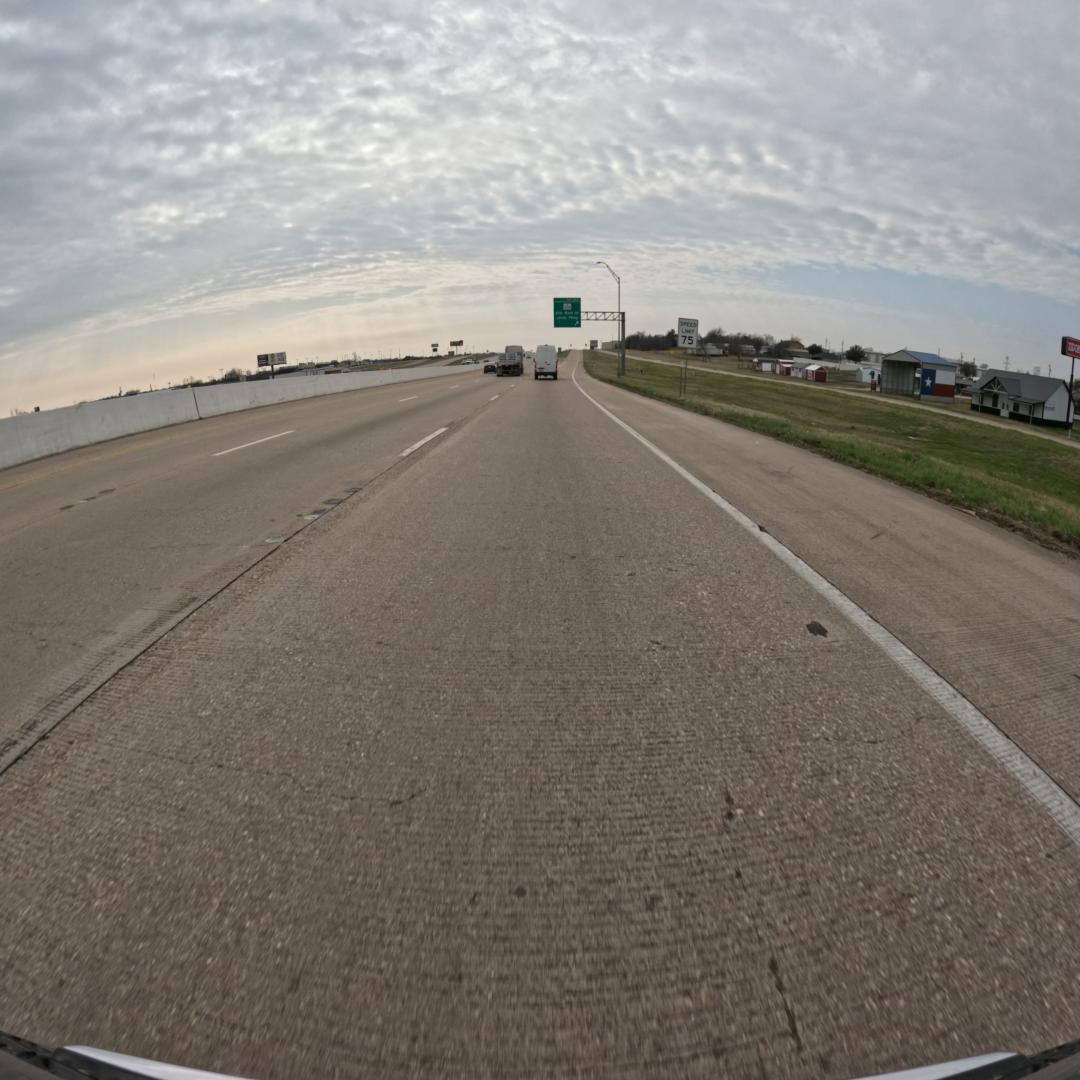lane0: (0, 381, 1080, 1077)
lane1: (0, 375, 510, 772)
